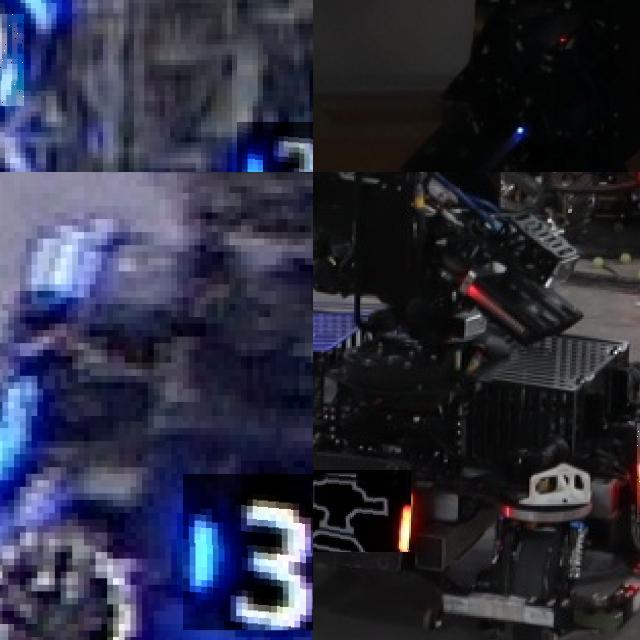B2: (237, 121, 313, 172), (0, 13, 25, 106)
B3: (183, 473, 313, 630)
Rs: (313, 469, 411, 552)
